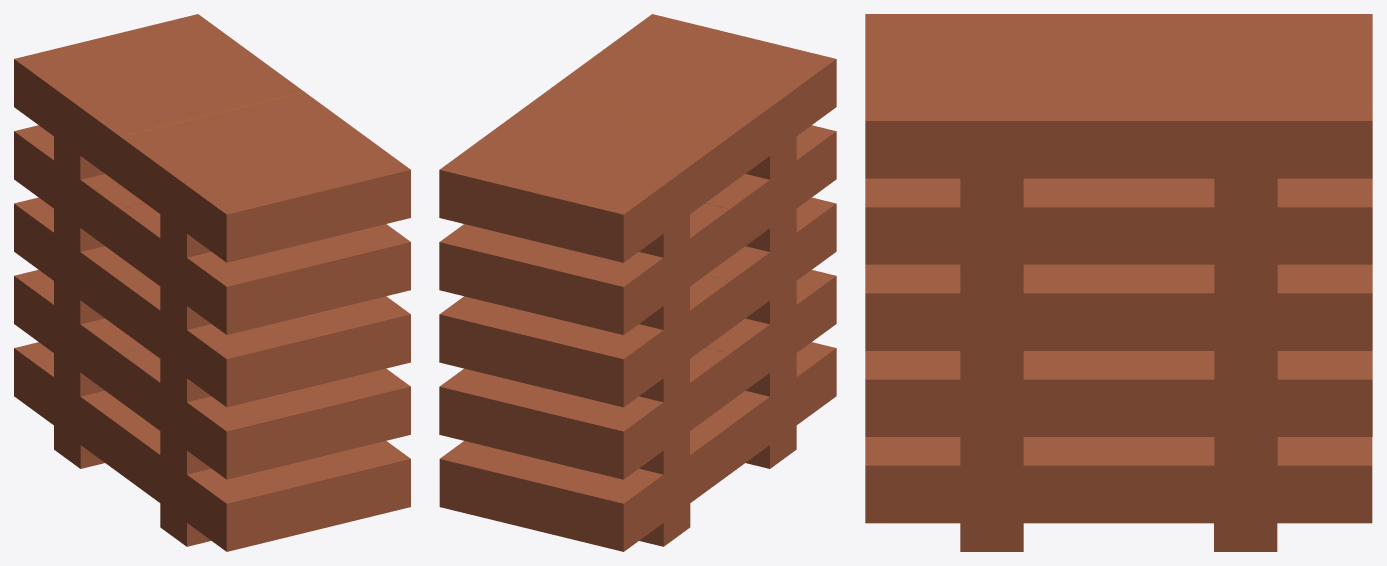
The model's file is cake6.fbx.
The picture shows the model from 3 angles, left to right: view 1: azimuth 30°, elevation 25°; view 2: azimuth 150°, elevation 25°; view 3: azimuth 270°, elevation 25°; orthographic projection. The views are drawn at different scales.
Parts seen in each view (by area): view 1: Cube.018, Cube.023, Cube.016, Cube.015, Cube.017, Cube.014, Cube.020, Cube.022, Cube.021, Cube.019; view 2: Cube.023, Cube.018, Cube.019, Cube.022, Cube.020, Cube.021, Cube.016, Cube.017, Cube.015, Cube.014; view 3: Cube.018, Cube.023, Cube.014, Cube.016, Cube.017, Cube.021, Cube.022, Cube.019, Cube.015, Cube.020.
Part boxes in pixels (left/top/right/bottom): Cube.018: left=120, top=92, right=410, bottom=262; Cube.023: left=14, top=14, right=304, bottom=184; Cube.016: left=120, top=275, right=410, bottom=407; Cube.015: left=120, top=348, right=410, bottom=479; Cube.017: left=120, top=203, right=410, bottom=334; Cube.014: left=120, top=420, right=410, bottom=551; Cube.020: left=14, top=270, right=144, bottom=401; Cube.022: left=14, top=125, right=144, bottom=256; Cube.021: left=14, top=197, right=144, bottom=328; Cube.019: left=14, top=342, right=144, bottom=473; Cube.023: left=439, top=92, right=729, bottom=262; Cube.018: left=546, top=14, right=836, bottom=184; Cube.019: left=439, top=420, right=729, bottom=551; Cube.022: left=439, top=203, right=729, bottom=334; Cube.020: left=439, top=348, right=729, bottom=479; Cube.021: left=439, top=275, right=729, bottom=407; Cube.016: left=705, top=197, right=836, bottom=329; Cube.017: left=705, top=125, right=836, bottom=256; Cube.015: left=705, top=270, right=836, bottom=401; Cube.014: left=706, top=342, right=836, bottom=473; Cube.018: left=865, top=14, right=1118, bottom=207; Cube.023: left=1119, top=14, right=1372, bottom=207; Cube.014: left=865, top=437, right=1118, bottom=551; Cube.016: left=865, top=264, right=1118, bottom=379; Cube.017: left=865, top=178, right=1118, bottom=293; Cube.021: left=1119, top=264, right=1372, bottom=379; Cube.022: left=1119, top=178, right=1372, bottom=293; Cube.019: left=1119, top=437, right=1372, bottom=551; Cube.015: left=865, top=351, right=1118, bottom=465; Cube.020: left=1119, top=351, right=1372, bottom=465.
Size of the model in its own units: 200 by 375 by 400.
